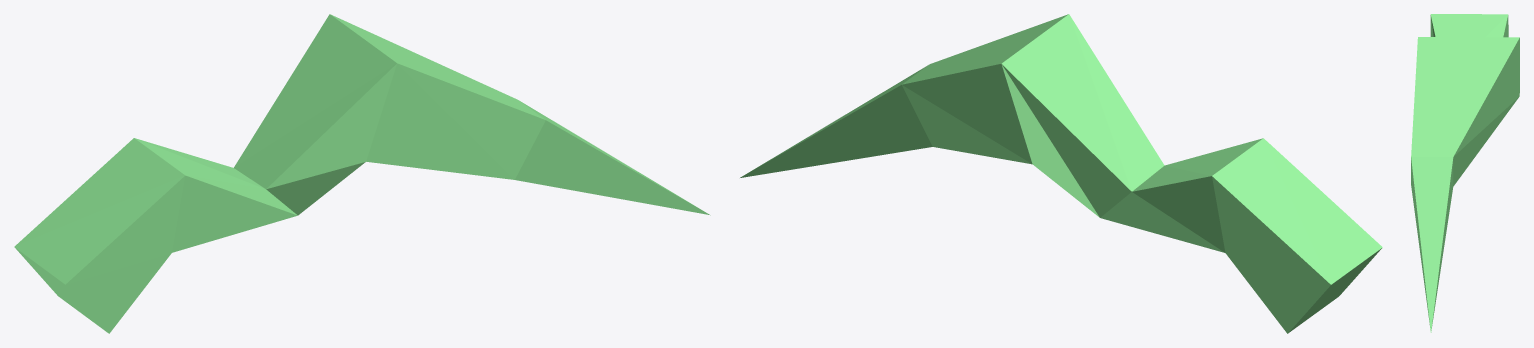
File: Troll Stalagmite 4.FBX
3 renders of one model, left to right at view 1: azimuth 30°, elevation 25°; view 2: azimuth 150°, elevation 25°; view 3: azimuth 270°, elevation 25°, orthographic. The views are drawn at different scales.
Parts seen in each view (by area): view 1: Object002; view 2: Object002; view 3: Object002.
Part boxes in pixels (x1,y1,x2,y2): Object002: (14,14,710,333); Object002: (740,14,1382,333); Object002: (1411,14,1519,332).
Size of the model in its own units: 557 by 195 by 108.
